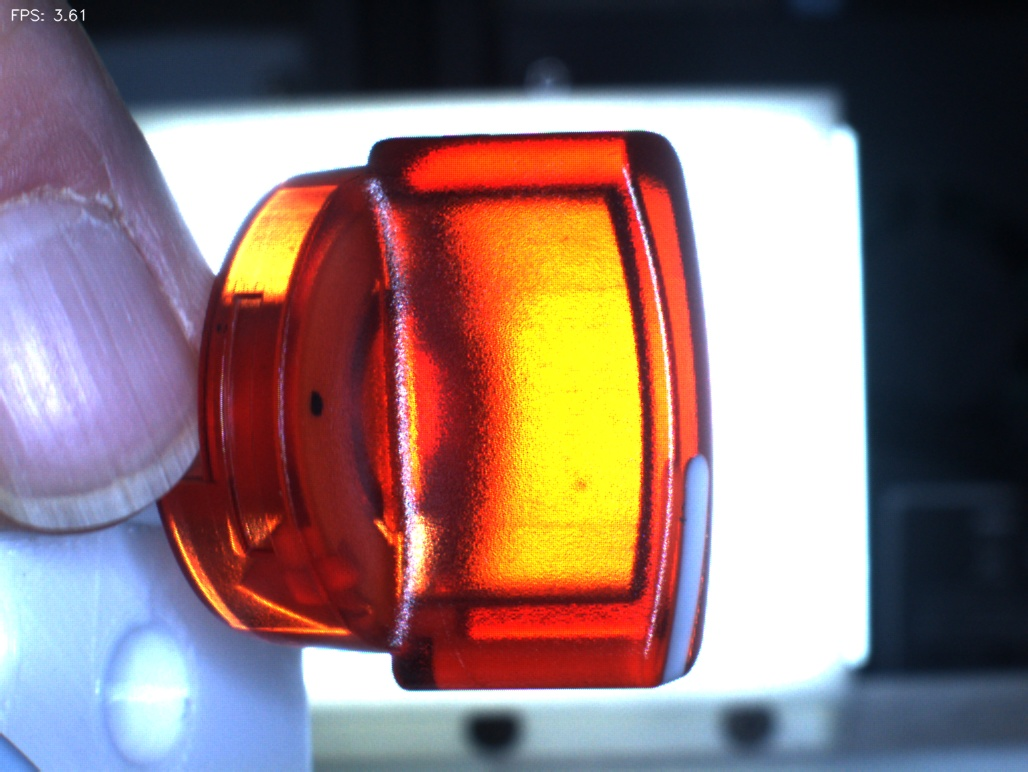PointNoir: (281, 361, 360, 452)
